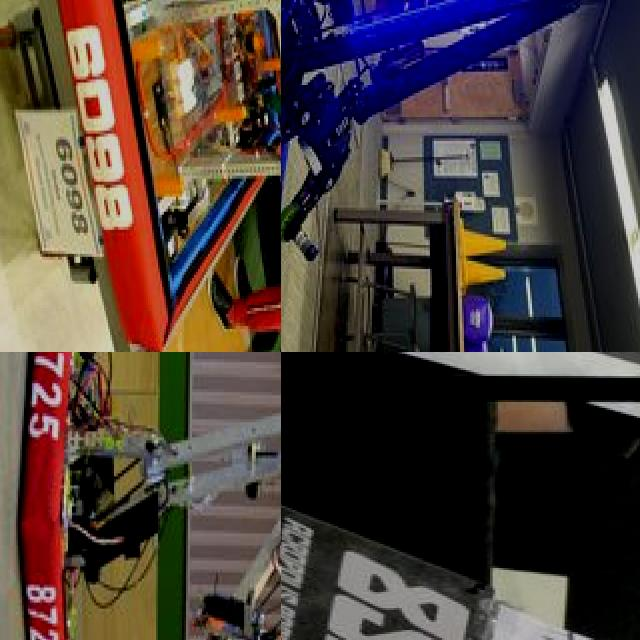FRC-Robots: (281, 352, 640, 640), (281, 0, 597, 285), (5, 352, 281, 640), (69, 0, 281, 352)
